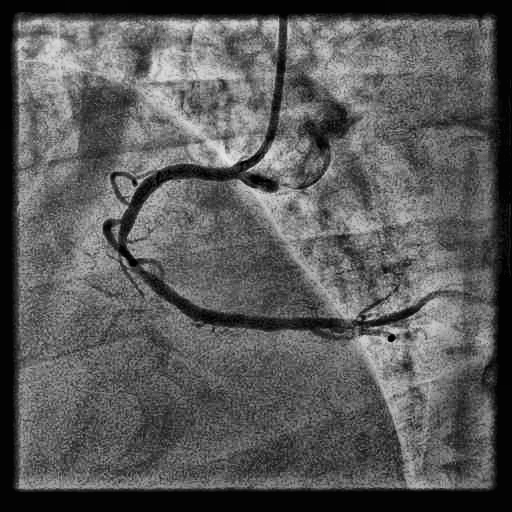pborca: (313, 290, 473, 329)
pda: (310, 319, 385, 340)
rca: (119, 164, 313, 331)
